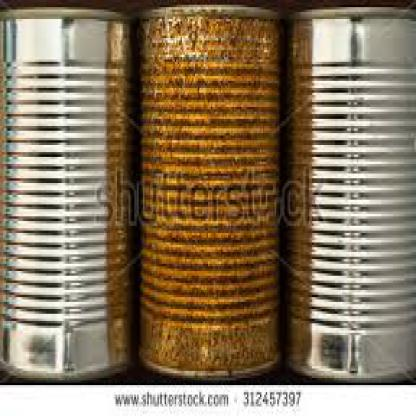METAL: (134, 2, 280, 376), (284, 2, 414, 383), (0, 5, 132, 379)
